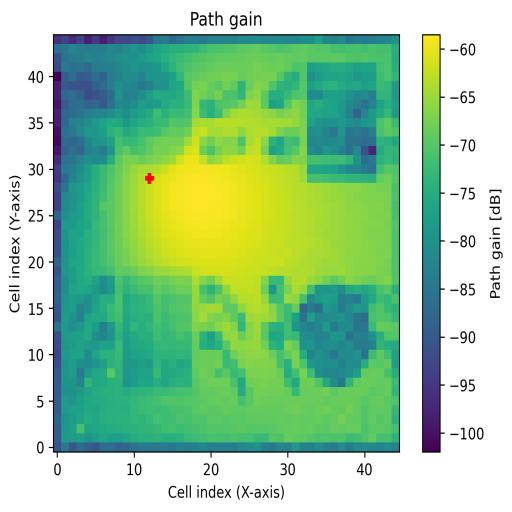Concrete: (306, 62, 376, 183)
Glass: (123, 60, 192, 166)
Metal: (290, 284, 376, 388)
Wood: (122, 276, 194, 388)
